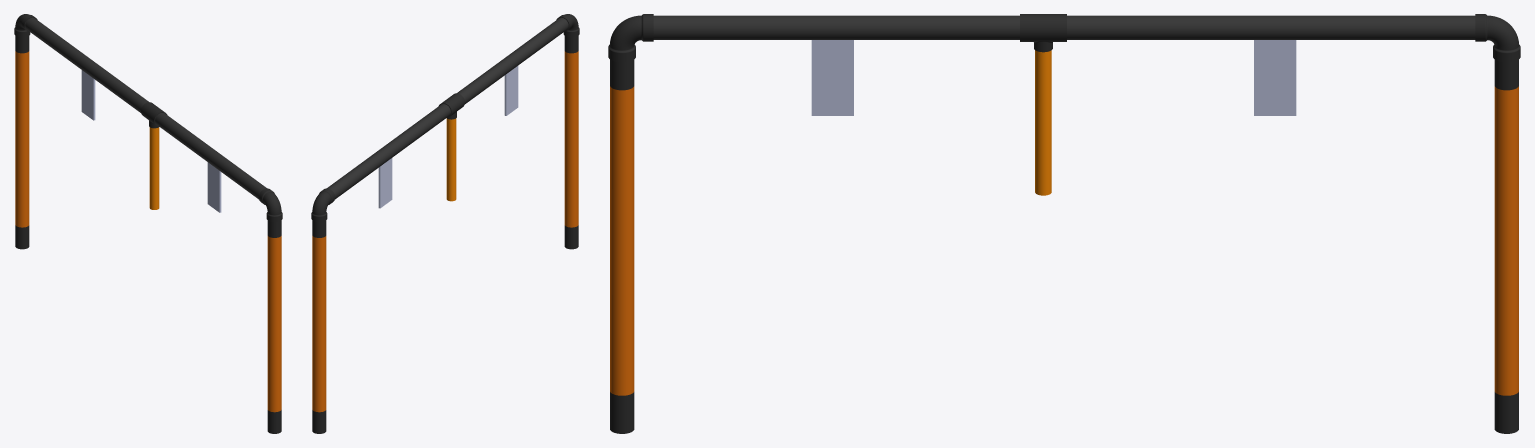
The picture shows the model from 3 angles, left to right: view 1: azimuth 30°, elevation 25°; view 2: azimuth 150°, elevation 25°; view 3: azimuth 270°, elevation 25°; orthographic projection. The views are drawn at different scales.
Parts seen in each view (by area): view 1: Body_1, Body_1_12, Body_1_5, Body_1_4, Body_1_8, Body_1_9, Body_1_2, Body_1_7, Body_1_13, Body_1_6, Body_1_11; view 2: Body_1, Body_1_5, Body_1_12, Body_1_4, Body_1_8, Body_1_9, Body_1_11, Body_1_7, Body_1_6, Body_1_13, Body_1_2; view 3: Body_1, Body_1_5, Body_1_12, Body_1_8, Body_1_9, Body_1_4, Body_1_2, Body_1_11, Body_1_7, Body_1_6, Body_1_13.
Boxes of the visible parts, x1,y1,x2,y2 form: Body_1: [25, 17, 266, 199]; Body_1_12: [15, 51, 29, 227]; Body_1_5: [267, 236, 281, 412]; Body_1_4: [149, 127, 159, 209]; Body_1_8: [207, 162, 221, 212]; Body_1_9: [81, 70, 95, 120]; Body_1_2: [258, 188, 282, 221]; Body_1_7: [141, 102, 167, 128]; Body_1_13: [15, 225, 29, 249]; Body_1_6: [267, 410, 281, 433]; Body_1_11: [14, 14, 37, 37]; Body_1: [327, 17, 568, 199]; Body_1_5: [564, 51, 578, 227]; Body_1_12: [312, 236, 326, 412]; Body_1_4: [446, 118, 456, 201]; Body_1_8: [504, 66, 518, 115]; Body_1_9: [378, 158, 392, 208]; Body_1_11: [311, 188, 335, 221]; Body_1_7: [438, 93, 464, 119]; Body_1_6: [564, 225, 578, 249]; Body_1_13: [312, 410, 326, 433]; Body_1_2: [556, 14, 579, 37]; Body_1: [653, 15, 1475, 39]; Body_1_5: [610, 86, 634, 395]; Body_1_12: [1494, 86, 1518, 395]; Body_1_8: [811, 40, 853, 115]; Body_1_9: [1254, 40, 1296, 115]; Body_1_4: [1035, 50, 1051, 195]; Body_1_2: [608, 14, 653, 62]; Body_1_11: [1475, 14, 1520, 62]; Body_1_7: [1020, 14, 1066, 52]; Body_1_6: [610, 392, 634, 433]; Body_1_13: [1494, 392, 1518, 433].
Bounding box in the file's own units: 0.1007 × 3.3 × 1.65.
